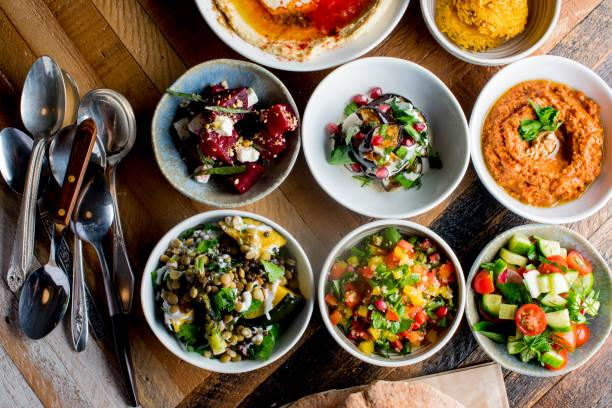Braised Crucian Carp: (140, 209, 310, 373), (301, 55, 467, 220), (468, 54, 609, 224), (465, 223, 610, 377), (150, 58, 296, 208), (318, 218, 463, 365), (265, 361, 503, 407)
